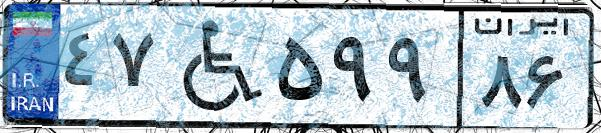4: (57, 26, 110, 100)
5: (270, 28, 330, 110)
6: (525, 38, 570, 115)
7: (110, 28, 158, 98)
8: (475, 38, 525, 113)
9: (385, 28, 445, 110), (330, 28, 385, 110)
ژ (معلولین و جانبازان): (158, 12, 270, 120)
